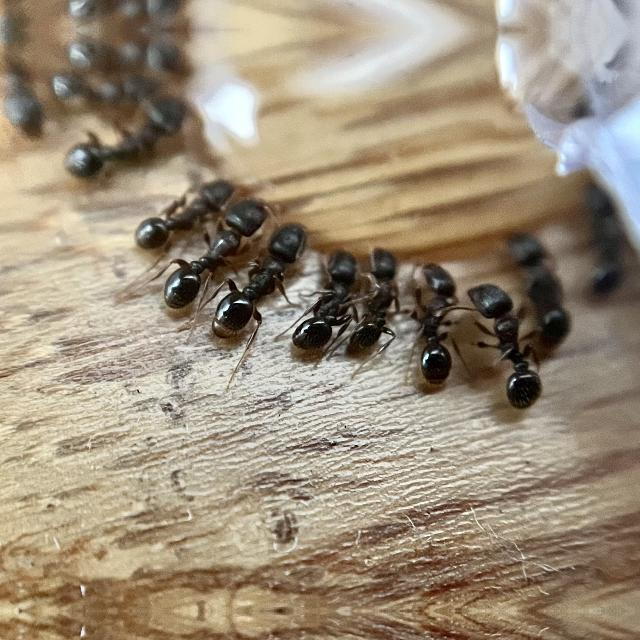Tetramorium: (146, 177, 286, 319), (202, 210, 322, 340), (272, 225, 368, 368), (54, 98, 190, 186), (117, 169, 251, 253), (403, 246, 475, 396), (502, 217, 578, 347), (344, 212, 408, 362), (478, 283, 548, 412), (577, 179, 639, 303), (0, 28, 56, 130), (61, 29, 188, 72), (38, 66, 172, 104), (60, 0, 186, 28), (0, 0, 56, 28)
